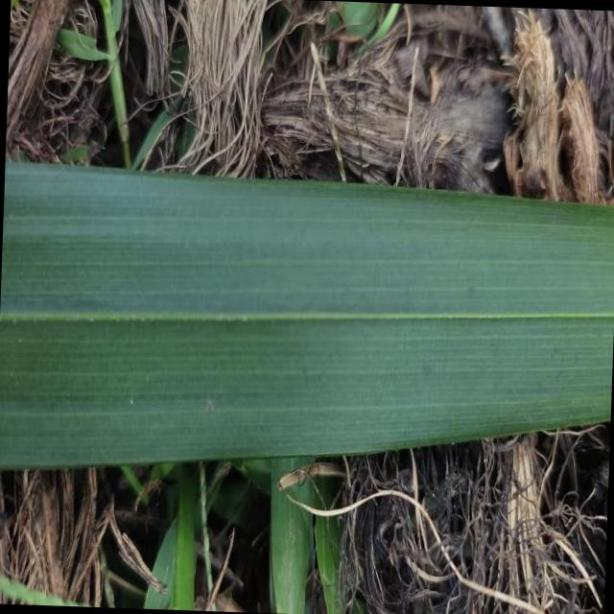Healthy: (5, 160, 614, 467)
